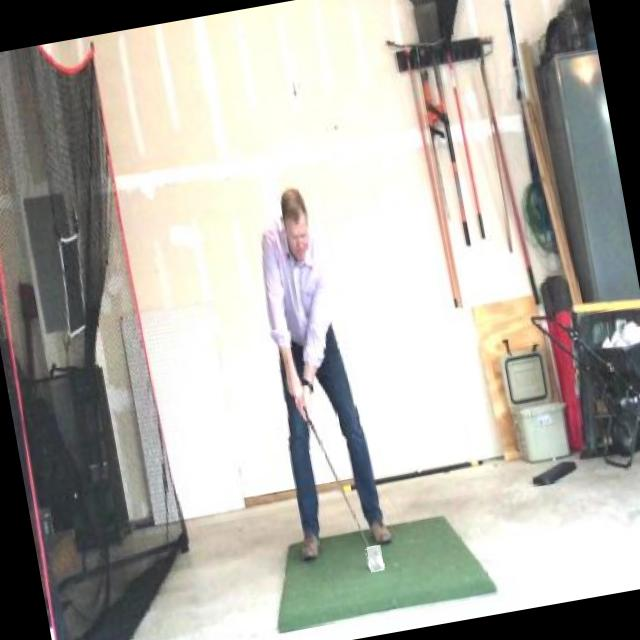club head: (366, 544, 384, 572)
